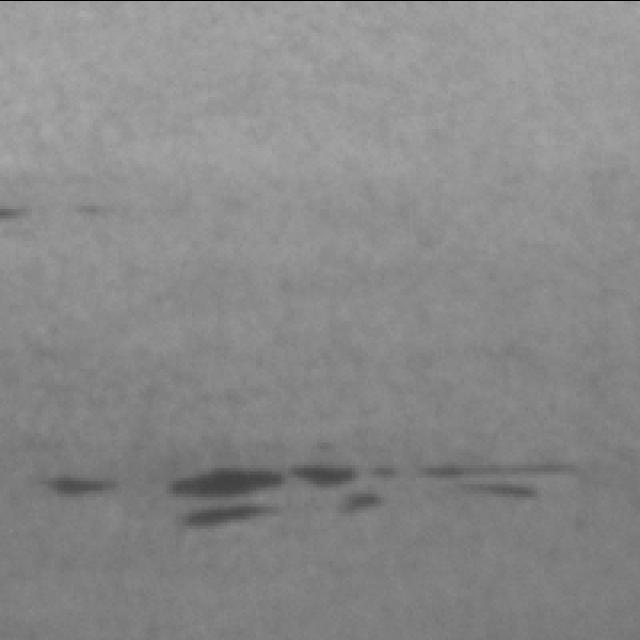inclusion: (419, 444, 608, 527), (298, 441, 404, 535), (168, 458, 288, 532), (34, 467, 123, 508)
